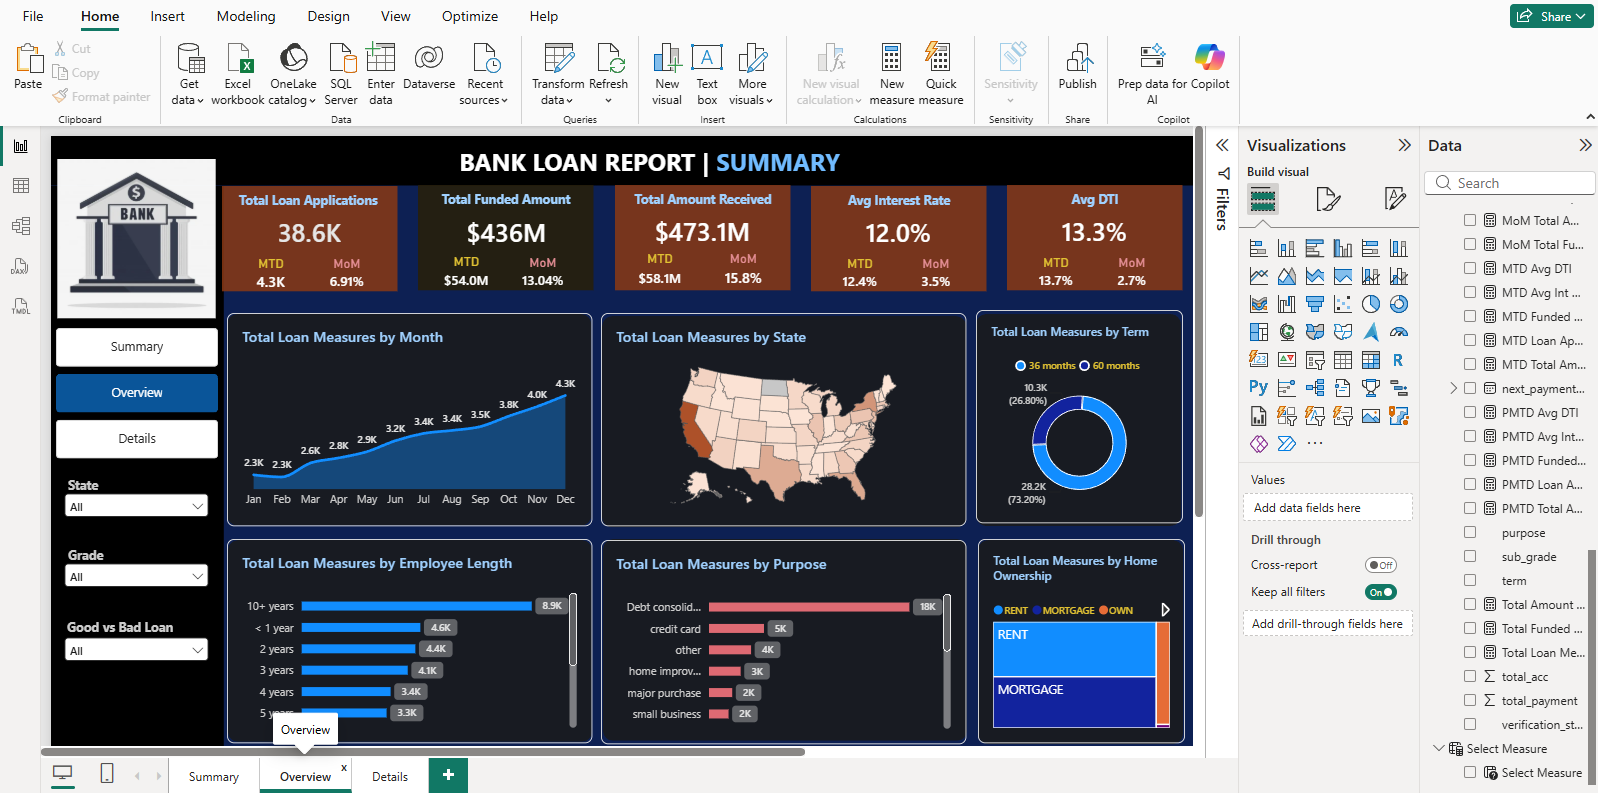

Layout of this report page (visuals, bound fields, positions):
{"tool":"powerbi","page":{"name":"Overview","canvas":[1920,1080],"ordinal":1},"visuals":[{"type":"shape","box":[407.8,54.4,195,117],"z":0,"group":"g1"},{"type":"shape","box":[0,55.6,192,655],"z":0},{"type":"shape","box":[0,0,1280,55],"z":1000},{"type":"cardVisual","fields":{"Data":["financial_loan.Total Funded Amount"]},"box":[409.8,81.6,192.2,50],"z":1000,"group":"g1"},{"type":"textbox","box":[448.9,10,432.2,45.6],"z":2000},{"type":"textbox","box":[420,60,171.1,27.8],"z":2000,"group":"g1"},{"type":"group","id":"g1","title":"Group 1","box":[407.8,54.4,195.6,116.7],"z":3000},{"type":"shape","box":[626.1,54.4,195,117],"z":3000,"group":"g3"},{"type":"shape","box":[1062.2,54.4,195,117],"z":3000,"group":"g5"},{"type":"shape","box":[190,55.6,195,117],"z":3000,"group":"g2"},{"type":"shape","box":[843.9,55.6,195,117],"z":3000,"group":"g4"},{"type":"cardVisual","title":"MTD","fields":{"Data":["financial_loan.MTD Funded Amount"]},"box":[409.8,131.6,103.3,40],"z":3000,"group":"g1"},{"type":"group","id":"g2","title":"Group 2","box":[190,55.6,195,117],"z":4000},{"type":"cardVisual","fields":{"Data":["financial_loan.Total Amount Receiced"]},"box":[627.2,80,192.2,50],"z":4000,"group":"g3"},{"type":"cardVisual","fields":{"Data":["financial_loan.Avg DTI"]},"box":[1063.3,80,192.2,50],"z":4000,"group":"g5"},{"type":"cardVisual","fields":{"Data":["financial_loan.Total Loan Measures"]},"box":[191.1,81.2,192.2,50],"z":4000,"group":"g2"},{"type":"cardVisual","fields":{"Data":["financial_loan.Avg Interest Rate"]},"box":[845,81.2,192.2,50],"z":4000,"group":"g4"},{"type":"cardVisual","title":"MoM","fields":{"Data":["financial_loan.MoM Total Funded Amount"]},"box":[504.5,132.2,84.4,38.9],"z":4000,"group":"g1"},{"type":"group","id":"g3","title":"Group 2","box":[626.1,54.4,195,117],"z":5000},{"type":"textbox","box":[638.3,60,171.1,27.8],"z":5000,"group":"g3"},{"type":"textbox","box":[1074.4,60,171.1,27.8],"z":5000,"group":"g5"},{"type":"textbox","box":[202.2,61.2,171.1,27.8],"z":5000,"group":"g2"},{"type":"textbox","box":[856.1,61.2,171.1,27.8],"z":5000,"group":"g4"},{"type":"shape","box":[195.3,198.1,405,235],"z":5000,"group":"g6"},{"type":"shape","box":[612.2,200,405,235],"z":5000,"group":"g10"},{"type":"shape","box":[196.7,448.9,404.4,224.4],"z":5000,"group":"g11"},{"type":"cardVisual","title":"MTD","fields":{"Data":["financial_loan.MTD Total Amount Received"]},"box":[629.9,127.2,93.3,43.3],"z":6000,"group":"g3"},{"type":"cardVisual","title":"MTD","fields":{"Data":["financial_loan.MTD Avg DTI"]},"box":[1074.4,132.2,84.4,38.9],"z":6000,"group":"g5"},{"type":"cardVisual","title":"MTD","fields":{"Data":["financial_loan.MTD Loan Applications"]},"box":[202.2,133.4,84.4,38.9],"z":6000,"group":"g2"},{"type":"cardVisual","title":"MTD","fields":{"Data":["financial_loan.MTD Avg Int Rate"]},"box":[856.1,133.4,84.4,38.9],"z":6000,"group":"g4"},{"type":"shape","box":[1027.8,197.8,227.8,235.6],"z":6000},{"type":"cardVisual","title":"MoM","fields":{"Data":["financial_loan.MoM Total Amount Received"]},"box":[722.9,127.2,92.2,43.3],"z":7000,"group":"g3"},{"type":"cardVisual","title":"MoM","fields":{"Data":["financial_loan.MoM Avg DTI"]},"box":[1158.9,132.2,84.4,38.9],"z":7000,"group":"g5"},{"type":"cardVisual","title":"MoM","fields":{"Data":["financial_loan.MoM Loan Application"]},"box":[286.7,133.4,84.4,38.9],"z":7000,"group":"g2"},{"type":"cardVisual","title":"MoM","fields":{"Data":["financial_loan.MoM Avg Interest Rate"]},"box":[940.6,133.4,84.4,38.9],"z":7000,"group":"g4"},{"type":"shape","box":[613.3,447.8,404.4,224.4],"z":7000},{"type":"group","id":"g4","title":"Group 2","box":[843.9,55.6,195.6,116.7],"z":8000},{"type":"group","id":"g5","title":"Group 2","box":[1062.2,54.4,195.6,116.7],"z":9000},{"type":"group","id":"g6","title":"Group 4","box":[195.3,198.1,405,235],"z":10000},{"type":"textbox","box":[17.8,312.2,138.9,27.8],"z":11000},{"type":"group","id":"g7","title":"Group 5","box":[10,377.8,170,56.7],"z":12000},{"type":"textbox","box":[18.9,377.8,51.1,27.8],"z":12000,"group":"g7"},{"type":"textbox","box":[18.9,455.6,51.1,27.8],"z":12000,"group":"g8"},{"type":"textbox","box":[17.8,535,141.1,31.1],"z":12000,"group":"g9"},{"type":"group","id":"g8","title":"Group 5","box":[10,455.6,170,56.7],"z":13000},{"type":"slicer","fields":{"Values":["financial_loan.address_state"]},"box":[10,392.2,170,42.2],"z":14000,"group":"g7"},{"type":"slicer","fields":{"Values":["financial_loan.grade"]},"box":[10,470,170,42.2],"z":14000,"group":"g8"},{"type":"group","id":"g9","title":"Group 5","box":[10,535,170,59.4],"z":14000},{"type":"slicer","fields":{"Values":["financial_loan.Good vd Bad Loans"]},"box":[10,552.2,170,42.2],"z":14000,"group":"g9"},{"type":"areaChart","fields":{"Category":["Date Table.Month"],"Y":["financial_loan.Total Loan Measures"]},"box":[195.6,196.7,405.6,236.7],"z":15000},{"type":"slicer","fields":{"Values":["Parameter.Parameter"]},"box":[10,326.7,170,37.8],"z":16000},{"type":"group","id":"g10","title":"Group 4","box":[612.2,200,405.6,235.6],"z":17000},{"type":"shapeMap","fields":{"Category":["financial_loan.address_state"],"Value":["financial_loan.Total Loan Measures"]},"box":[611.1,196.7,405.6,236.7],"z":18000},{"type":"donutChart","fields":{"Category":["financial_loan.term"],"Y":["financial_loan.Total Loan Measures"]},"box":[1027.8,193.3,230,236.7],"z":19000},{"type":"group","id":"g11","title":"Group 4","box":[196.7,448.9,404.4,224.4],"z":20000},{"type":"barChart","fields":{"Category":["financial_loan.emp_length"],"Y":["financial_loan.Total Loan Measures"]},"box":[195.6,447.8,405.6,226.7],"z":21000},{"type":"shape","box":[1030,448.9,227.8,226.7],"z":21500},{"type":"barChart","fields":{"Category":["financial_loan.purpose"],"Y":["financial_loan.Total Loan Measures"]},"box":[611.1,448.9,405.6,226.7],"z":22000},{"type":"treemap","fields":{"Group":["financial_loan.home_ownership"],"Values":["financial_loan.Total Loan Measures"]},"box":[1030,447.8,230,226.7],"z":24000},{"type":"image","box":[0,25.6,190,176.7],"z":24001},{"type":"pageNavigator","box":[5.6,213.3,180,146.7],"z":24002}]}

Visuals, with their boxes on the page's 1920x1080 design canvas (x1, y1, x2, y2). These are canvas units, not pixel positions in the 1598x793 screenshot, which may show the page scaled, cropped or inside an application window:
shape: BBox(408, 54, 603, 171)
shape: BBox(0, 56, 192, 711)
shape: BBox(0, 0, 1280, 55)
cardVisual - financial_loan.Total Funded Amount: BBox(410, 82, 602, 132)
textbox: BBox(449, 10, 881, 56)
textbox: BBox(420, 60, 591, 88)
"Group 1" group: BBox(408, 54, 603, 171)
shape: BBox(626, 54, 821, 171)
shape: BBox(1062, 54, 1257, 171)
shape: BBox(190, 56, 385, 173)
shape: BBox(844, 56, 1039, 173)
"MTD" cardVisual: BBox(410, 132, 513, 172)
"Group 2" group: BBox(190, 56, 385, 173)
cardVisual - financial_loan.Total Amount Receiced: BBox(627, 80, 819, 130)
cardVisual - financial_loan.Avg DTI: BBox(1063, 80, 1256, 130)
cardVisual - financial_loan.Total Loan Measures: BBox(191, 81, 383, 131)
cardVisual - financial_loan.Avg Interest Rate: BBox(845, 81, 1037, 131)
"MoM" cardVisual: BBox(504, 132, 589, 171)
"Group 2" group: BBox(626, 54, 821, 171)
textbox: BBox(638, 60, 809, 88)
textbox: BBox(1074, 60, 1246, 88)
textbox: BBox(202, 61, 373, 89)
textbox: BBox(856, 61, 1027, 89)
shape: BBox(195, 198, 600, 433)
shape: BBox(612, 200, 1017, 435)
shape: BBox(197, 449, 601, 673)
"MTD" cardVisual: BBox(630, 127, 723, 170)
"MTD" cardVisual: BBox(1074, 132, 1159, 171)
"MTD" cardVisual: BBox(202, 133, 287, 172)
"MTD" cardVisual: BBox(856, 133, 940, 172)
shape: BBox(1028, 198, 1256, 433)
"MoM" cardVisual: BBox(723, 127, 815, 170)
"MoM" cardVisual: BBox(1159, 132, 1243, 171)
"MoM" cardVisual: BBox(287, 133, 371, 172)
"MoM" cardVisual: BBox(941, 133, 1025, 172)
shape: BBox(613, 448, 1018, 672)
"Group 2" group: BBox(844, 56, 1040, 172)
"Group 2" group: BBox(1062, 54, 1258, 171)
"Group 4" group: BBox(195, 198, 600, 433)
textbox: BBox(18, 312, 157, 340)
"Group 5" group: BBox(10, 378, 180, 434)
textbox: BBox(19, 378, 70, 406)
textbox: BBox(19, 456, 70, 483)
textbox: BBox(18, 535, 159, 566)
"Group 5" group: BBox(10, 456, 180, 512)
slicer - financial_loan.address_state: BBox(10, 392, 180, 434)
slicer - financial_loan.grade: BBox(10, 470, 180, 512)
"Group 5" group: BBox(10, 535, 180, 594)
slicer - financial_loan.Good vd Bad Loans: BBox(10, 552, 180, 594)
areaChart - Date Table.Month x financial_loan.Total Loan Measures: BBox(196, 197, 601, 433)
slicer - Parameter.Parameter: BBox(10, 327, 180, 364)
"Group 4" group: BBox(612, 200, 1018, 436)
shapeMap - financial_loan.address_state x financial_loan.Total Loan Measures: BBox(611, 197, 1017, 433)
donutChart - financial_loan.term x financial_loan.Total Loan Measures: BBox(1028, 193, 1258, 430)
"Group 4" group: BBox(197, 449, 601, 673)
barChart - financial_loan.emp_length x financial_loan.Total Loan Measures: BBox(196, 448, 601, 674)
shape: BBox(1030, 449, 1258, 676)
barChart - financial_loan.purpose x financial_loan.Total Loan Measures: BBox(611, 449, 1017, 676)
treemap - financial_loan.home_ownership x financial_loan.Total Loan Measures: BBox(1030, 448, 1260, 674)
image: BBox(0, 26, 190, 202)
pageNavigator: BBox(6, 213, 186, 360)
